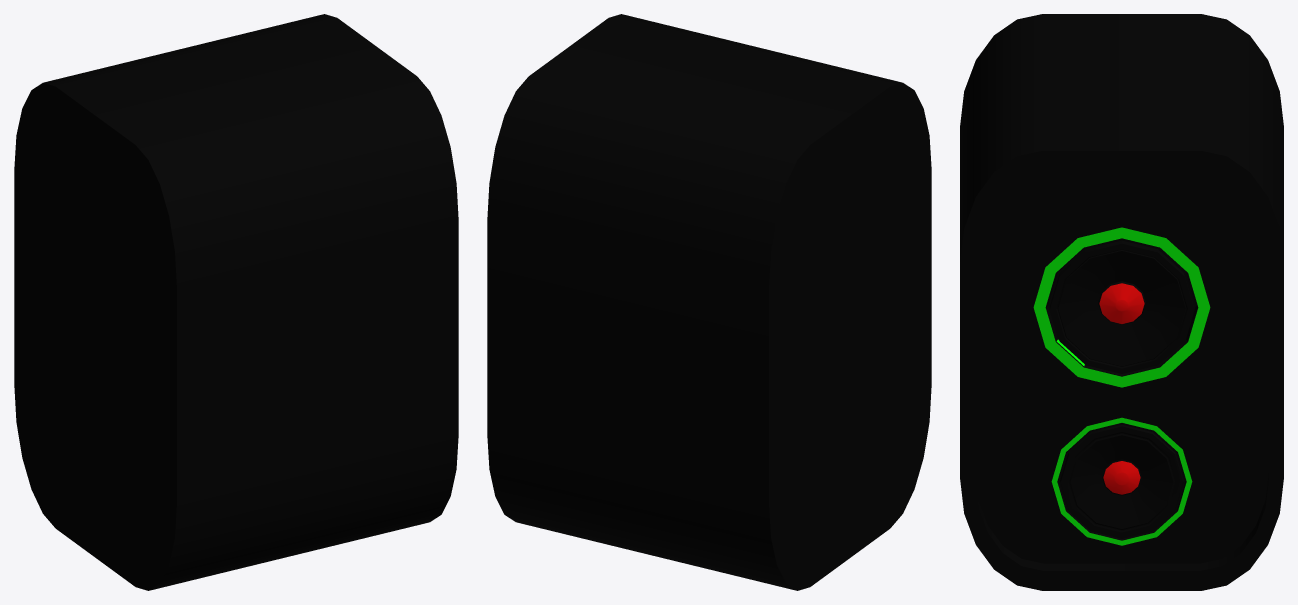
File: Speaker.fbx
3 views of the same model, side by side, from view 1: azimuth 30°, elevation 25°; view 2: azimuth 150°, elevation 25°; view 3: azimuth 270°, elevation 25° (orthographic).
Parts seen in each view (by area): view 1: Speaker 2.001; view 2: Speaker 2.001; view 3: Speaker 2.001.
Part boxes in pixels (<box>): Speaker 2.001: <box>14,14,458,590</box>; Speaker 2.001: <box>487,14,931,590</box>; Speaker 2.001: <box>960,14,1283,590</box>.
Size of the model in its own units: 13.02 by 19.53 by 13.02.
